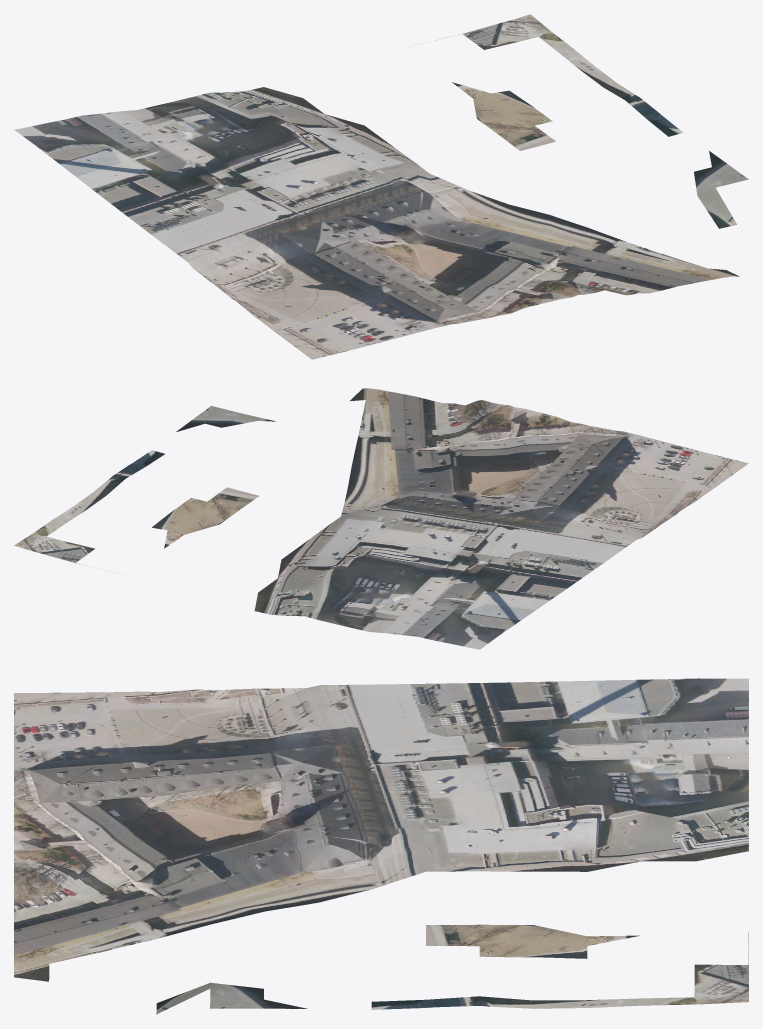
Rendered from CM_Terrain_24487182_6821227.fbx.
The picture shows the model from 3 angles, top to bottom: view 1: azimuth 30°, elevation 25°; view 2: azimuth 150°, elevation 25°; view 3: azimuth 270°, elevation 25°; orthographic projection. The views are drawn at different scales.
Visible parts, largest first — view 1: CM_Terrain_24487182_6821227_LOD0; view 2: CM_Terrain_24487182_6821227_LOD0; view 3: CM_Terrain_24487182_6821227_LOD0.
Part boxes in pixels (left/top/right/bottom): CM_Terrain_24487182_6821227_LOD0: left=14, top=14, right=748, bottom=359; CM_Terrain_24487182_6821227_LOD0: left=14, top=388, right=748, bottom=649; CM_Terrain_24487182_6821227_LOD0: left=14, top=678, right=748, bottom=1014.
Size of what is drawn, in the model's own units: 205 by 14.03 by 205.
